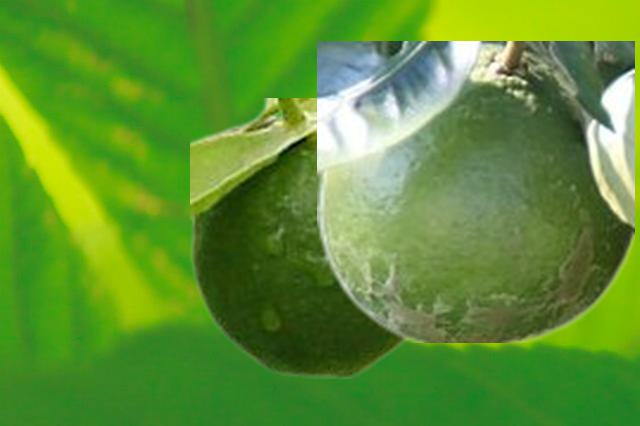dalandan: (317, 41, 633, 341), (190, 98, 410, 377)
